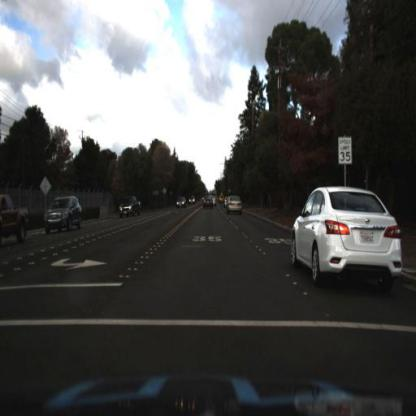car: (284, 184, 408, 295), (0, 193, 30, 247), (42, 196, 84, 232), (118, 194, 140, 217), (226, 195, 244, 218), (203, 193, 214, 209), (176, 194, 186, 210)
